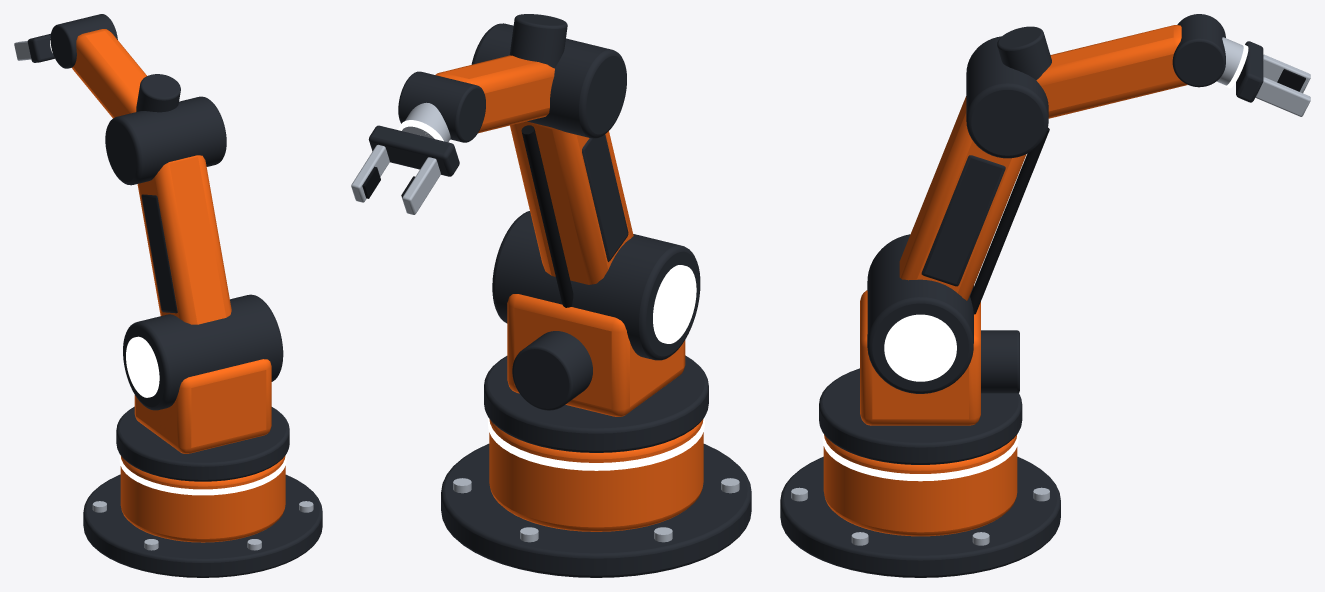
File: robot_arm.glb
The picture shows the model from 3 angles, left to right: view 1: azimuth 30°, elevation 25°; view 2: azimuth 150°, elevation 25°; view 3: azimuth 270°, elevation 25°; orthographic projection. The views are drawn at different scales.
Parts seen in each view (by area): view 1: BasePlate, UpperArm, BaseHousing, ShoulderJoint, ShoulderHousing, ElbowJoint, Turntable, Forearm, UpperArmPanel, WristJoint, ShoulderCapL, ForearmMotor (+3 smaller); view 2: BasePlate, BaseHousing, ShoulderJoint, Turntable, ShoulderHousing, UpperArm, ElbowJoint, Forearm, MotorJ1, WristJoint, UpperArmPanel, ShoulderCapL (+8 smaller); view 3: BasePlate, BaseHousing, Turntable, Forearm, ShoulderJoint, ElbowJoint, UpperArm, ShoulderHousing, UpperArmPanel, ShoulderCapR, WristJoint, MotorJ1 (+8 smaller).
Boxes of the visible parts, <box> form: BasePlate: <box>83,474,322,577</box>; UpperArm: <box>137,155,231,324</box>; BaseHousing: <box>120,455,285,542</box>; ShoulderJoint: <box>123,294,283,410</box>; ShoulderHousing: <box>134,359,271,453</box>; ElbowJoint: <box>105,96,226,185</box>; Turntable: <box>116,406,289,481</box>; Forearm: <box>72,29,146,118</box>; UpperArmPanel: <box>141,194,177,313</box>; WristJoint: <box>50,14,117,68</box>; ShoulderCapL: <box>126,336,159,397</box>; ForearmMotor: <box>136,74,180,112</box>; BasePlate: <box>441,443,751,577</box>; BaseHousing: <box>489,419,703,531</box>; ShoulderJoint: <box>492,211,700,360</box>; Turntable: <box>484,355,708,452</box>; ShoulderHousing: <box>507,294,685,416</box>; UpperArm: <box>510,121,633,284</box>; ElbowJoint: <box>471,23,626,138</box>; Forearm: <box>435,55,554,133</box>; MotorJ1: <box>512,331,592,410</box>; WristJoint: <box>398,71,485,142</box>; UpperArmPanel: <box>582,134,628,261</box>; ShoulderCapL: <box>653,265,696,343</box>; BasePlate: <box>780,456,1060,577</box>; BaseHousing: <box>823,434,1017,536</box>; Turntable: <box>819,368,1022,464</box>; Forearm: <box>1036,25,1187,118</box>; ShoulderJoint: <box>867,234,973,393</box>; ElbowJoint: <box>966,36,1048,158</box>; UpperArm: <box>899,96,1026,300</box>; ShoulderHousing: <box>860,290,980,425</box>; UpperArmPanel: <box>921,155,1005,286</box>; ShoulderCapR: <box>884,314,956,381</box>; WristJoint: <box>1172,14,1225,87</box>; MotorJ1: <box>981,330,1019,393</box>.
Size of the model in its own units: 1.16 by 2.25 by 2.19.
